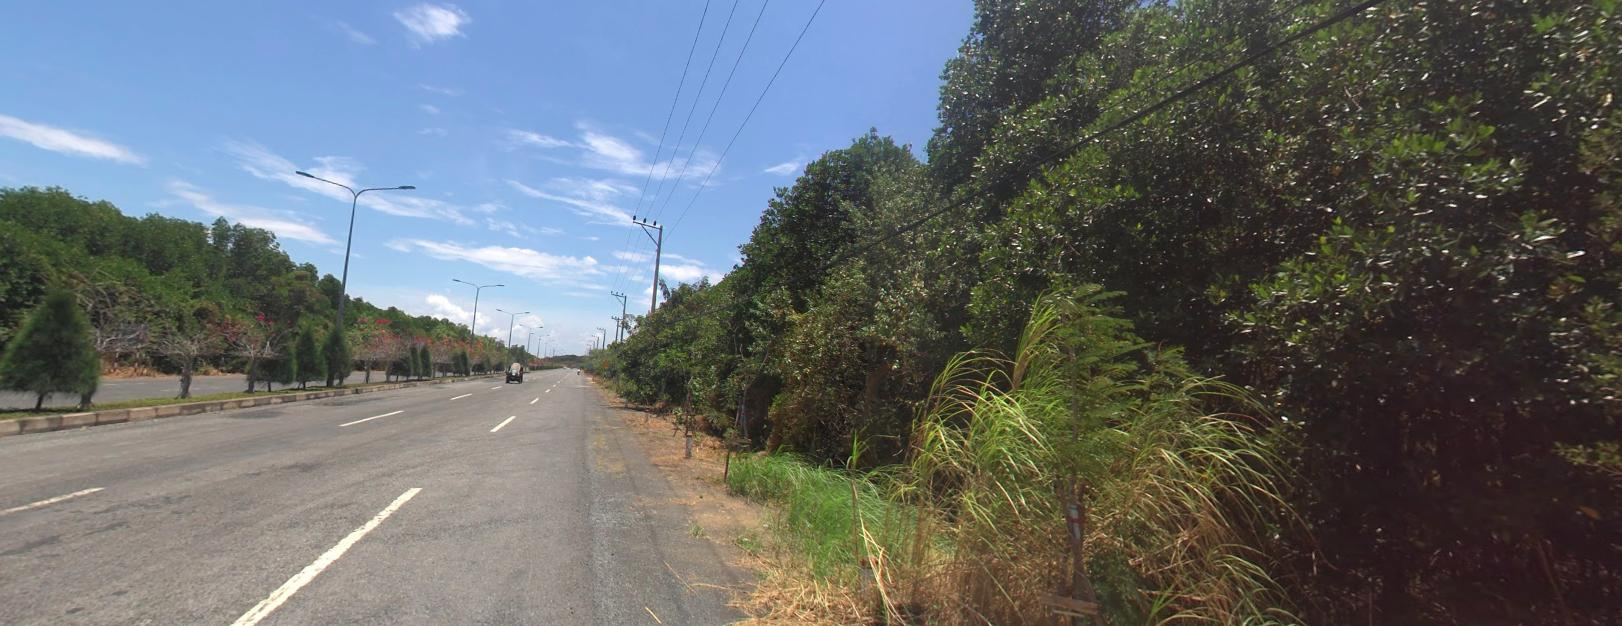Nguy hiem: (601, 358, 609, 365)
